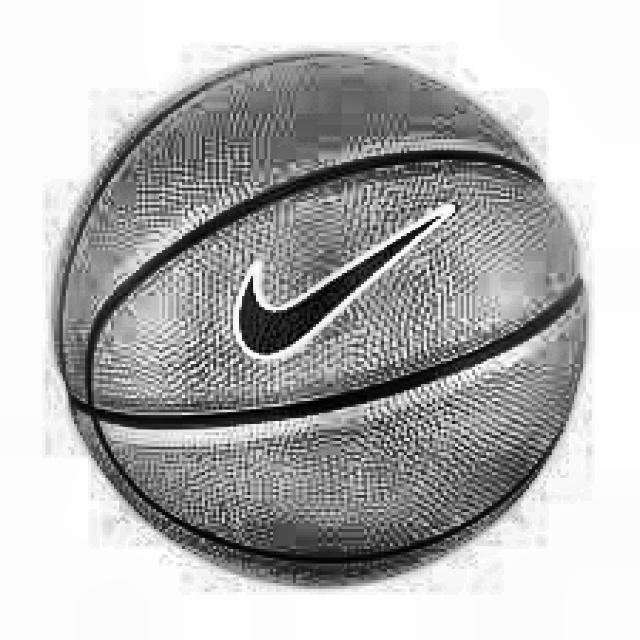Basketball: (54, 54, 589, 587)
